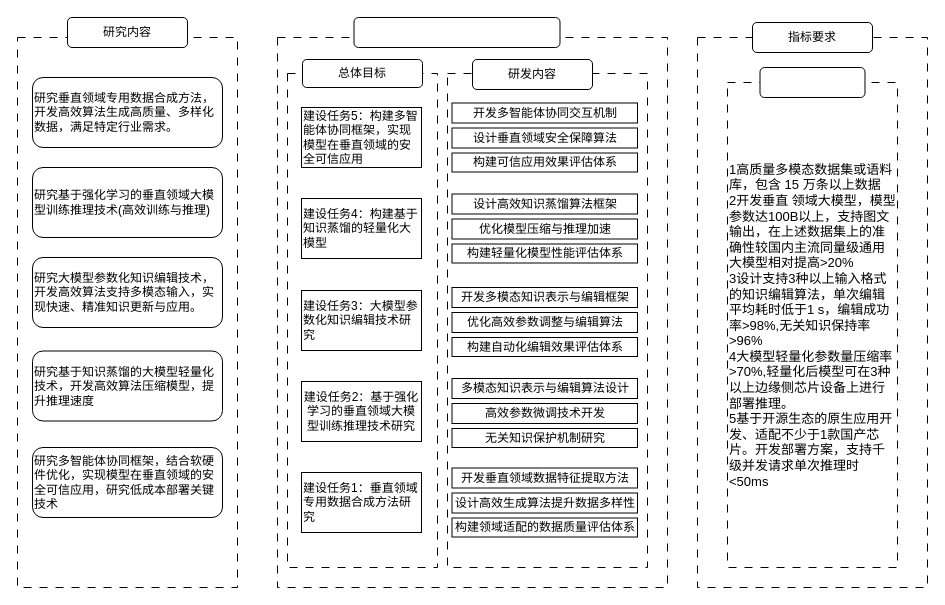
Some shapes in this 945 by 605 pixel diagram are drawn without their labels. Each missing label, with the box of its shape:
技术指标: (759, 66, 865, 98)
项目总体目标与项目内容支撑关系: (353, 16, 560, 48)
